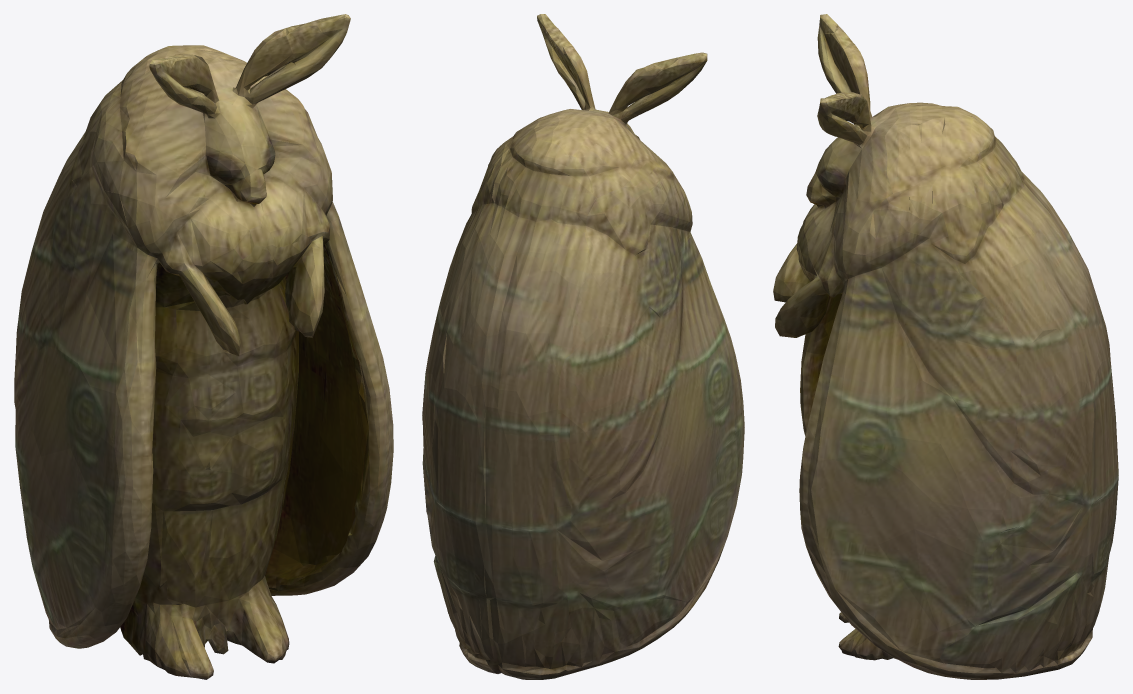
File: reedmoth.glb
The picture shows the model from 3 angles, left to right: view 1: azimuth 30°, elevation 25°; view 2: azimuth 150°, elevation 25°; view 3: azimuth 270°, elevation 25°; orthographic projection. The views are drawn at different scales.
Parts seen in each view (by area): view 1: world; view 2: world; view 3: world.
Part boxes in pixels (x1,y1,x2,y2): world: [14, 14, 393, 679]; world: [422, 14, 744, 679]; world: [773, 14, 1118, 679].
Size of the model in its own units: 0.3346 by 0.7328 by 0.3875.
Materials: 1 (1 with a texture image).
